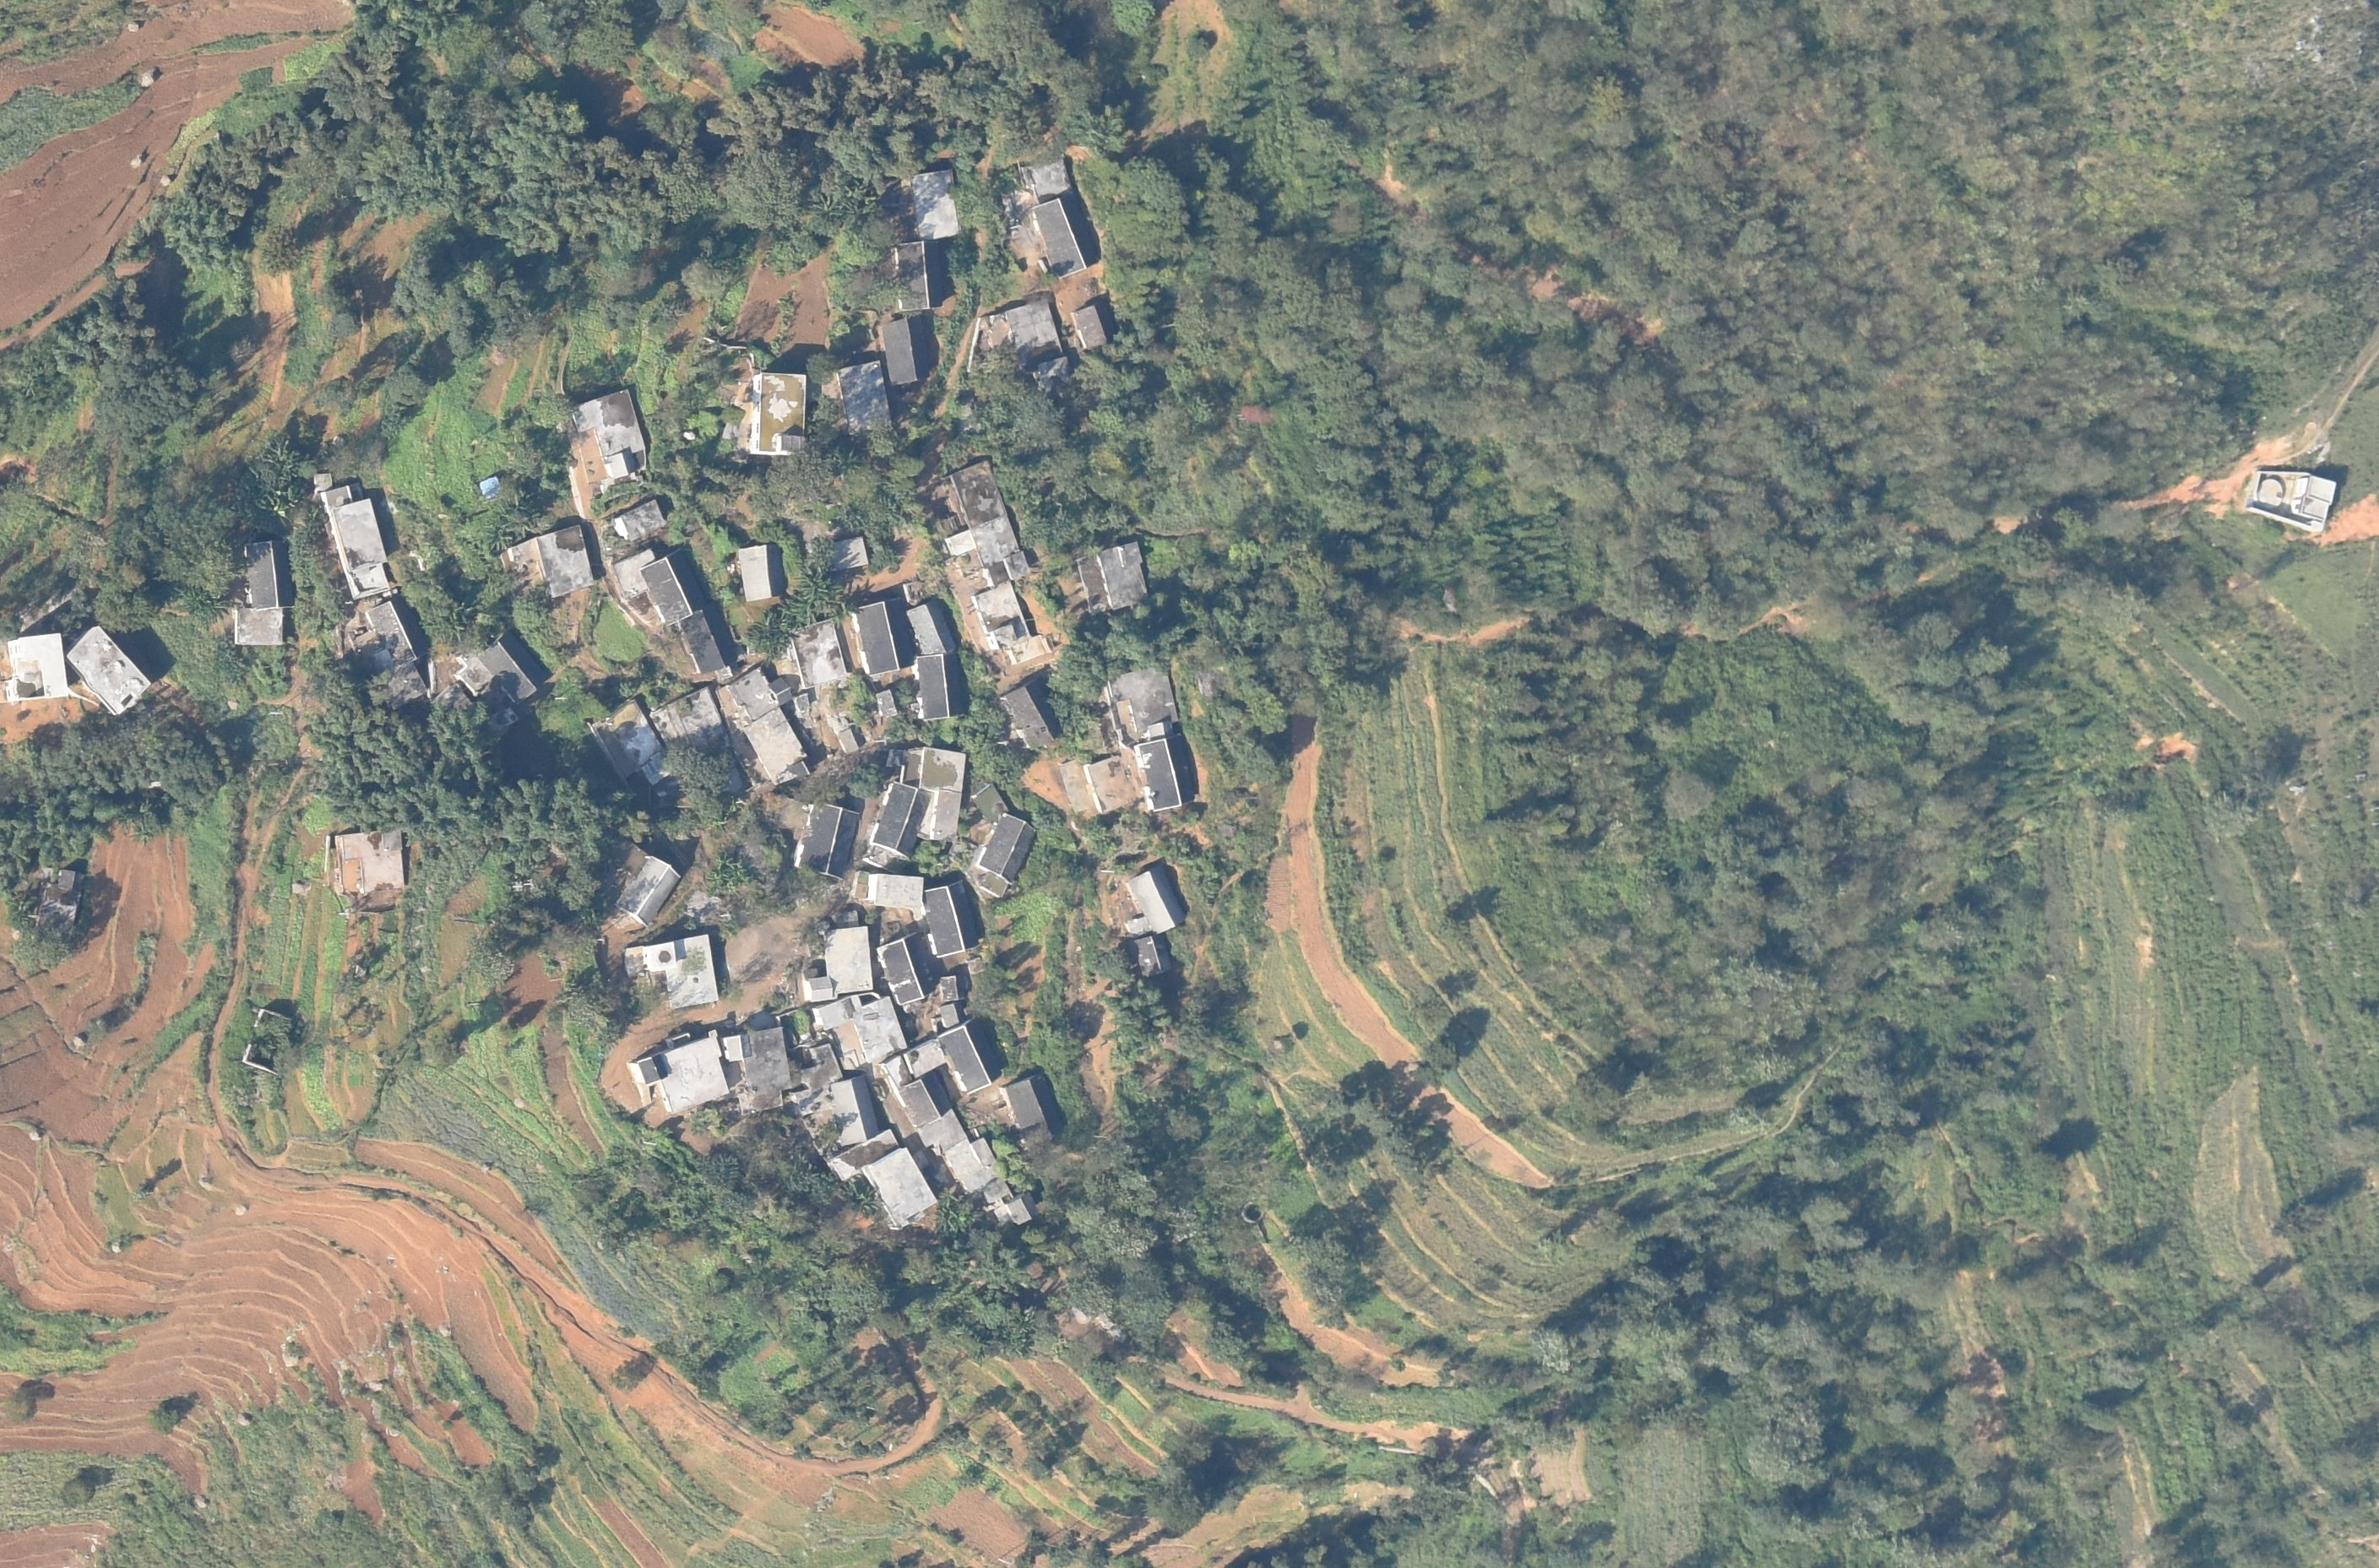building: (719, 670, 816, 790), (939, 463, 1033, 586), (832, 1129, 937, 1229), (313, 469, 392, 602), (872, 747, 961, 860), (654, 687, 739, 796), (1025, 156, 1092, 278), (438, 649, 535, 730), (354, 604, 426, 706), (69, 626, 150, 715), (622, 935, 720, 1006), (628, 1034, 723, 1107), (573, 391, 650, 478), (920, 1110, 1000, 1191), (970, 784, 1036, 882), (594, 703, 675, 784), (879, 1041, 959, 1122), (616, 551, 703, 622), (720, 1025, 790, 1110), (1008, 301, 1075, 389), (234, 543, 291, 646), (2245, 469, 2339, 532), (1106, 668, 1187, 740), (811, 999, 904, 1059), (1001, 1070, 1072, 1144), (747, 369, 809, 453), (1073, 544, 1152, 609), (851, 596, 915, 675), (796, 803, 858, 881), (873, 932, 938, 1004), (4, 632, 68, 703), (534, 524, 595, 597), (1000, 677, 1060, 750), (618, 856, 679, 927), (836, 359, 889, 440), (925, 883, 979, 958), (891, 239, 945, 312), (939, 1023, 995, 1093), (1127, 866, 1183, 935), (340, 830, 404, 891), (827, 1074, 879, 1146), (1138, 741, 1192, 809), (32, 872, 87, 938), (910, 171, 960, 239), (791, 622, 844, 687), (678, 613, 733, 672), (919, 652, 967, 719), (882, 319, 928, 387), (738, 541, 785, 604), (906, 597, 954, 655), (828, 927, 870, 993), (795, 1039, 847, 1087), (983, 1179, 1032, 1226), (1073, 302, 1117, 349), (1126, 938, 1176, 978), (614, 499, 663, 538), (866, 875, 926, 906), (814, 540, 866, 571), (942, 973, 973, 1025), (801, 972, 833, 1003), (877, 686, 901, 721), (836, 725, 864, 756)
prefabricated-house: (479, 471, 503, 497)
well: (2254, 475, 2287, 514)
